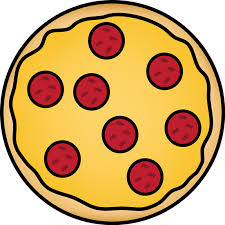pizza: (4, 3, 224, 221)
